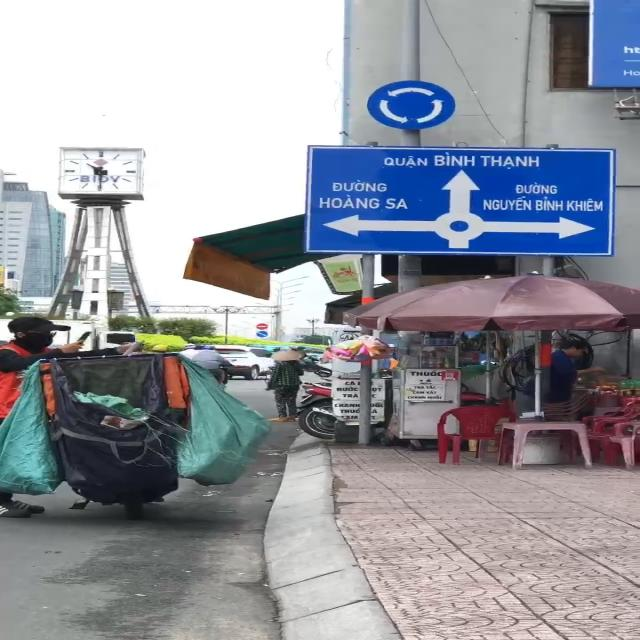Bien bao noi giao nhau chay theo vong xuyen: (360, 78, 461, 134)
